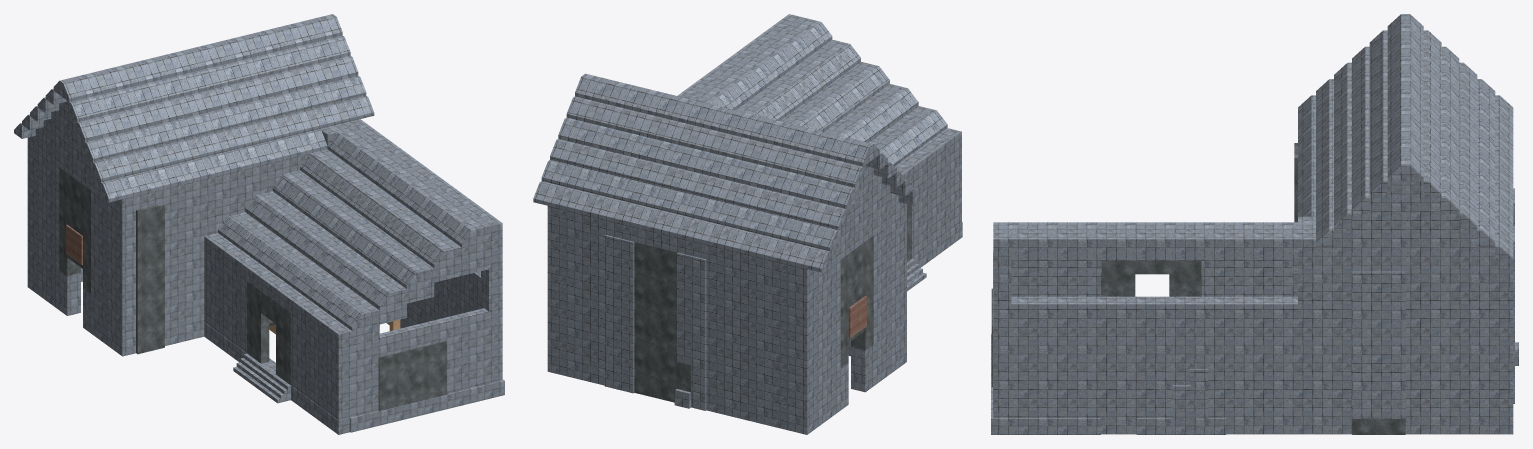
File: blacksmith.fbx
3 views of the same model, side by side, from view 1: azimuth 30°, elevation 25°; view 2: azimuth 150°, elevation 25°; view 3: azimuth 270°, elevation 25° (orthographic). The views are drawn at different scales.
Parts seen in each view (by area): view 1: mergedBlocks; view 2: mergedBlocks; view 3: mergedBlocks.
Part boxes in pixels (<box>): mergedBlocks: <box>14,14,504,434</box>; mergedBlocks: <box>533,14,962,434</box>; mergedBlocks: <box>991,14,1518,434</box>.
Bounding box in the file's own units: 91.37 × 77.66 × 134.
